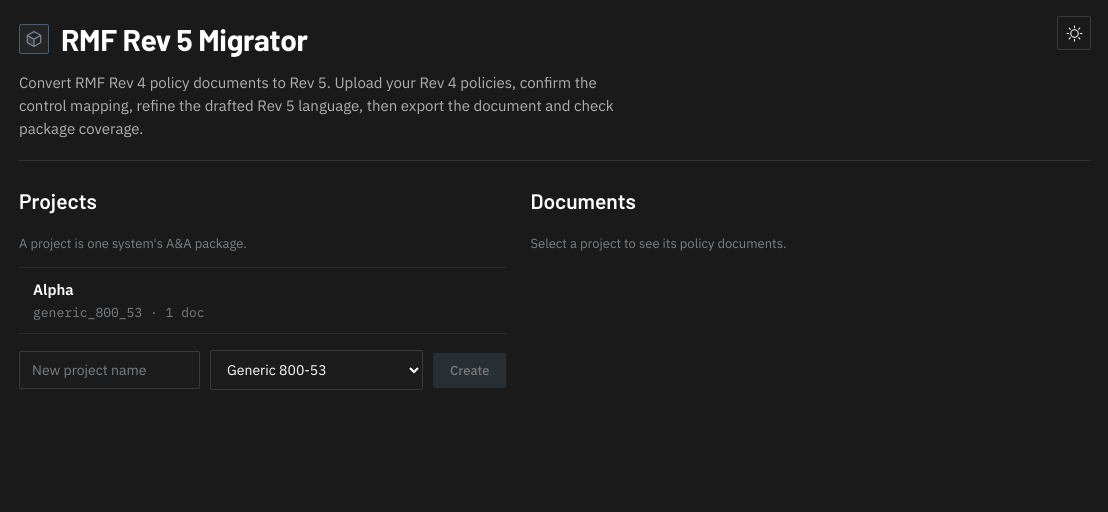
Failed document reasons › shows no reason line on healthy documents
Click the button "Alpha generic_800_53 · 1 doc" at (53, 289), box left=19, top=268, right=506, bottom=333
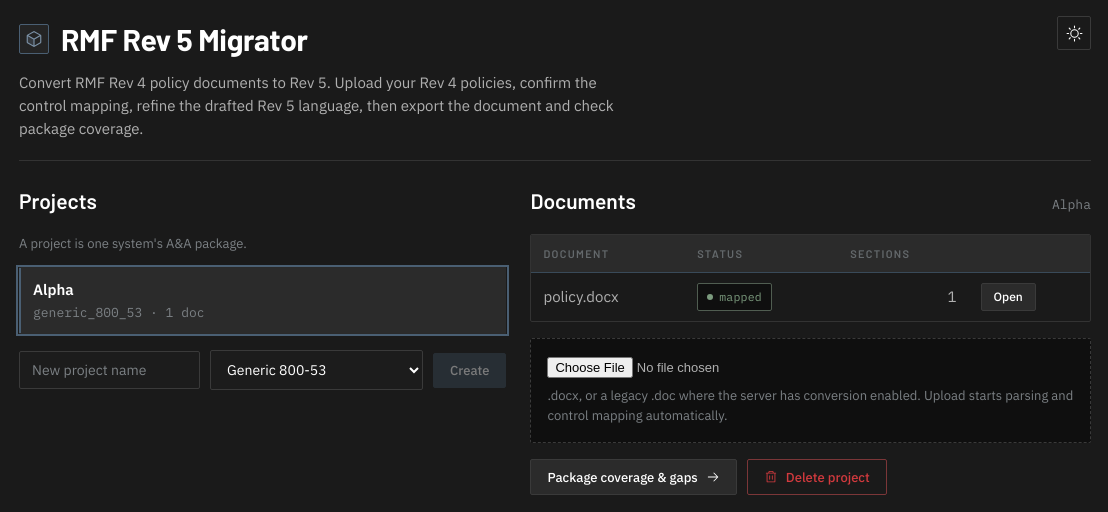
Check: the text "policy.docx" is shown, box left=531, top=272, right=685, bottom=321
